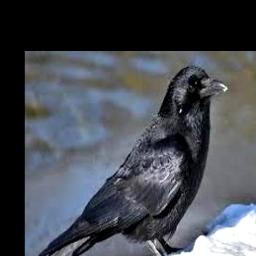Crow: (31, 65, 227, 256)
